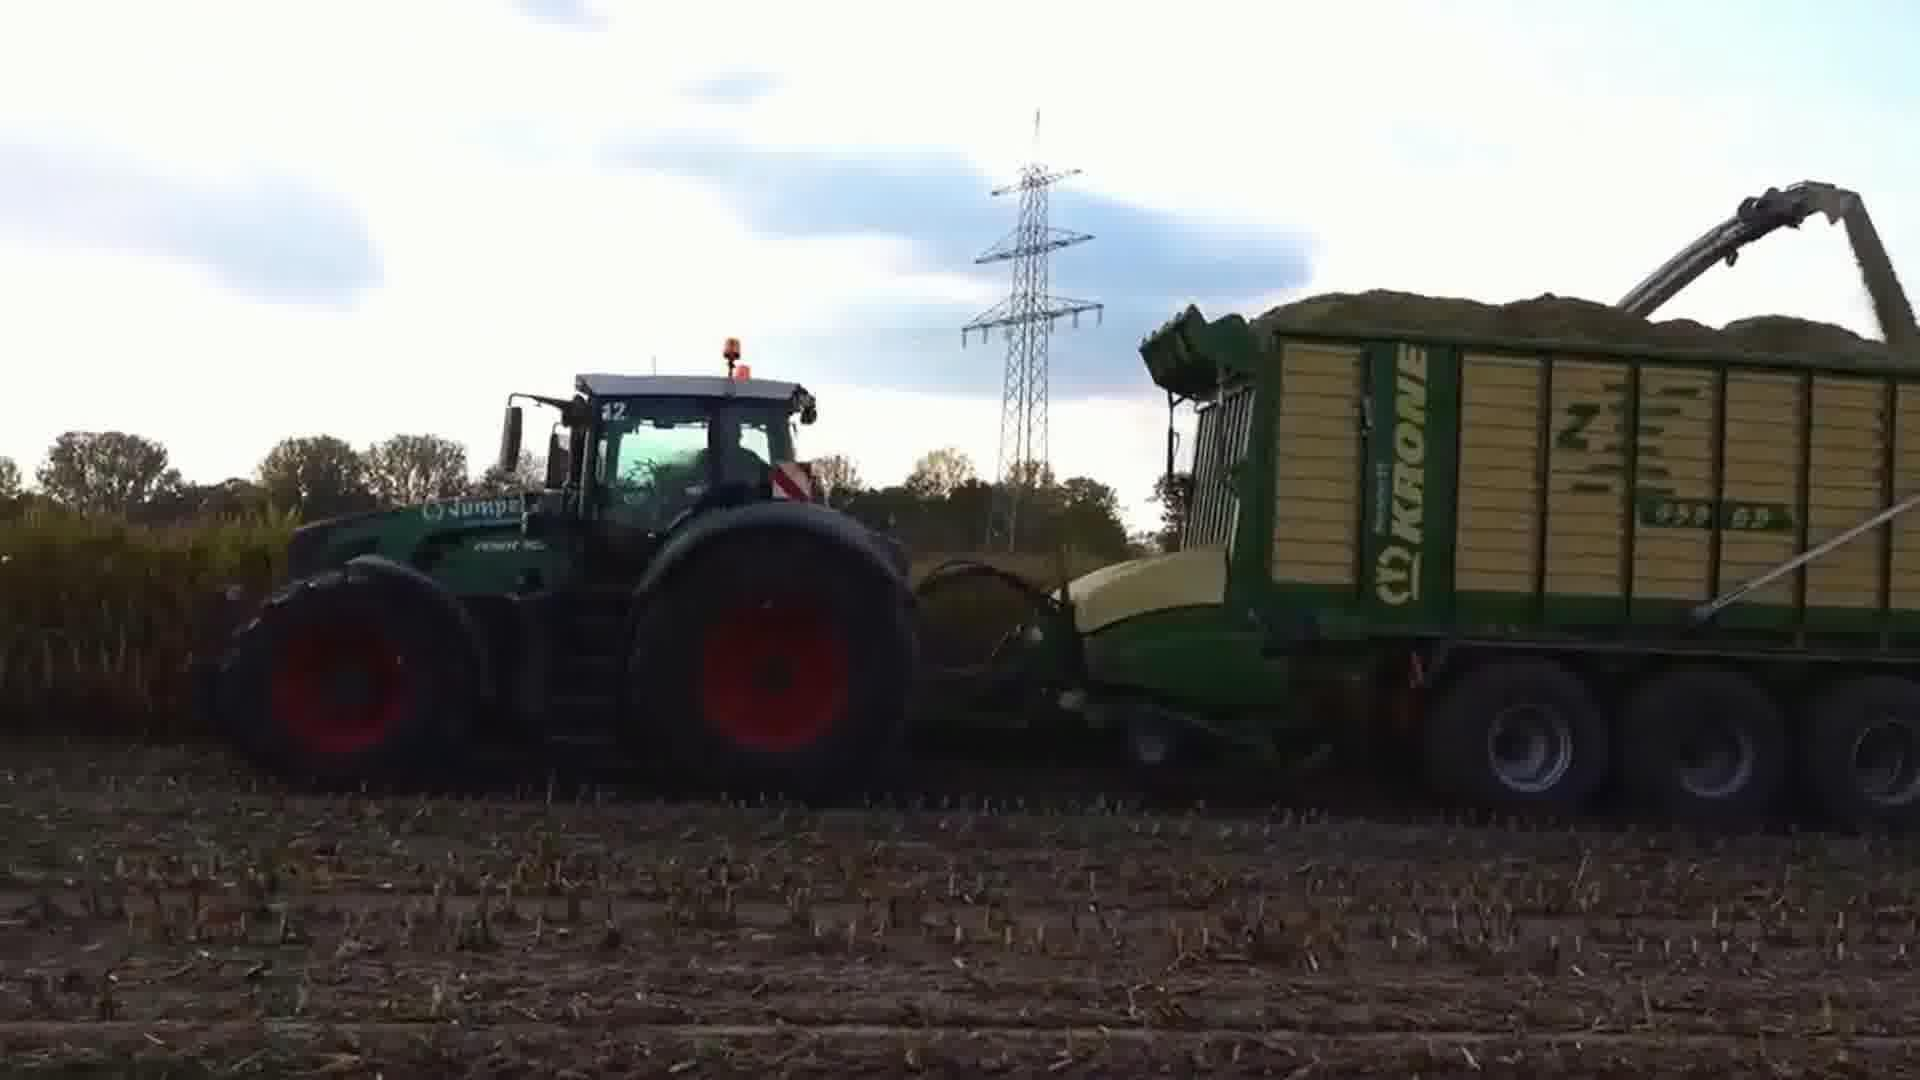tractor: (179, 328, 955, 802)
trailer: (997, 276, 1920, 839)
